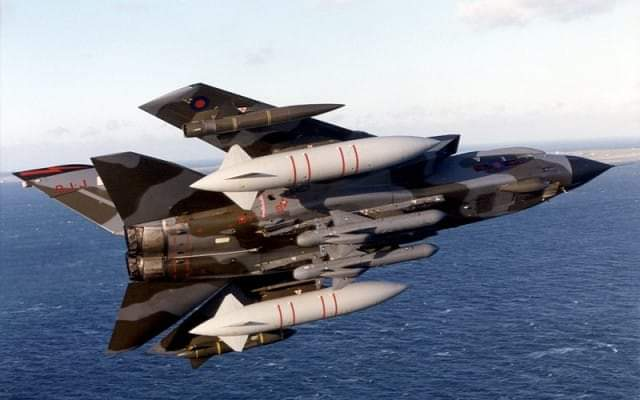Tornado: (11, 82, 637, 371)
